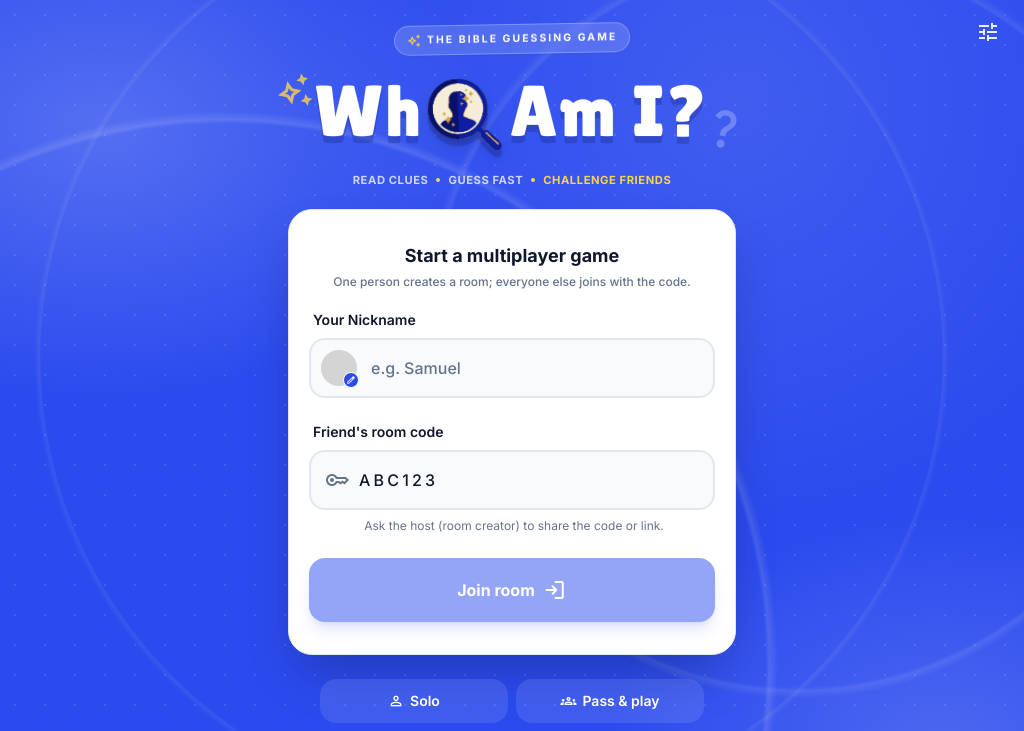
Test: Home › prefills room code from URL once and lets the user clear it
This screenshot has width=1024, height=731.
Expected: the button "Join room" is shown, x1=309 y1=558 x2=715 y2=622
Expected: the button "create a room" is not shown
Clear the field with placeholder "Code or invite link" at [512, 480], box x1=309 y1=450 x2=715 y2=510
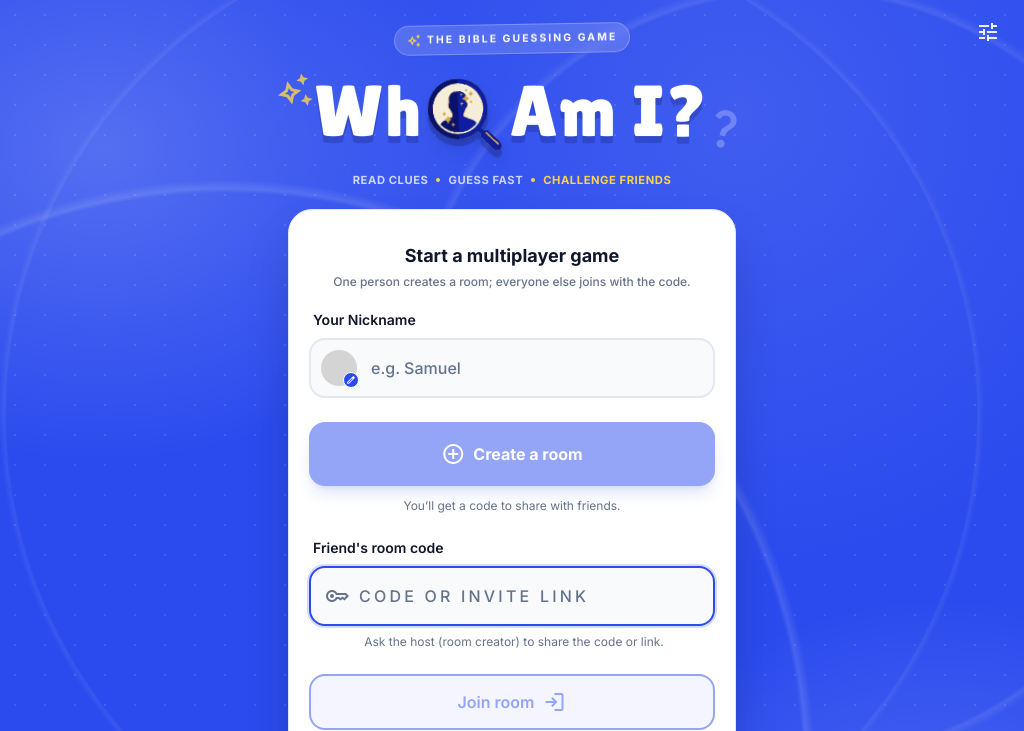
Expected: the button "Create a room" is shown, x1=309 y1=422 x2=715 y2=486
